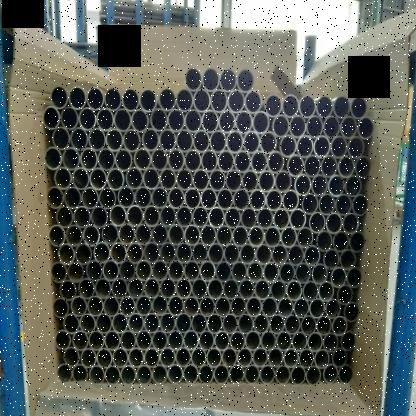pipe: (184, 66, 202, 92), (315, 95, 334, 119), (42, 106, 61, 130), (202, 67, 220, 92), (236, 68, 254, 93), (122, 87, 140, 112), (210, 88, 228, 113), (228, 89, 246, 114), (150, 107, 168, 132), (88, 127, 106, 152), (271, 114, 290, 137), (63, 186, 82, 209), (219, 68, 237, 92), (50, 85, 68, 109), (68, 86, 86, 110), (86, 86, 104, 110), (104, 88, 122, 112), (158, 88, 176, 112), (176, 88, 194, 112), (140, 88, 158, 112), (244, 90, 262, 114), (264, 93, 282, 117), (282, 94, 300, 118), (298, 94, 316, 118), (333, 95, 351, 119), (350, 95, 368, 119), (60, 106, 78, 130), (78, 106, 96, 130), (96, 107, 114, 131), (114, 108, 132, 132), (132, 108, 150, 132), (184, 109, 202, 133), (252, 110, 270, 134), (289, 114, 307, 138), (306, 114, 324, 138), (340, 115, 358, 139), (52, 126, 70, 150), (70, 127, 88, 151), (142, 128, 160, 152), (106, 128, 124, 152), (226, 130, 244, 154), (260, 131, 278, 155), (97, 147, 115, 171), (250, 150, 268, 174), (320, 154, 338, 178), (338, 155, 356, 179), (54, 166, 72, 190), (344, 174, 362, 198), (286, 154, 305, 176), (90, 206, 109, 228), (296, 135, 314, 158), (44, 147, 62, 170), (62, 147, 80, 170), (80, 147, 98, 170), (134, 147, 152, 170), (115, 148, 133, 171), (184, 149, 202, 172), (267, 151, 285, 174), (72, 167, 90, 190), (126, 167, 144, 190), (192, 168, 210, 191), (46, 186, 64, 209), (82, 186, 100, 209), (318, 193, 336, 216), (73, 205, 91, 228), (272, 207, 290, 230), (100, 223, 118, 246), (83, 224, 101, 247), (65, 224, 83, 247), (280, 226, 298, 249), (218, 110, 235, 134), (323, 114, 340, 138), (124, 128, 141, 152), (159, 128, 176, 152), (176, 129, 193, 153), (193, 130, 210, 154), (210, 130, 227, 154), (243, 130, 260, 154), (331, 136, 348, 160), (348, 136, 365, 160), (209, 168, 226, 192), (225, 168, 242, 192), (127, 204, 144, 228), (279, 135, 297, 157), (354, 156, 372, 178), (274, 170, 292, 192), (294, 174, 312, 196), (117, 186, 135, 208), (282, 190, 300, 212), (301, 192, 319, 214), (109, 204, 127, 226), (308, 212, 326, 234), (296, 227, 314, 249), (75, 243, 93, 265), (67, 261, 85, 283), (278, 262, 296, 284), (94, 278, 112, 300), (324, 298, 342, 320), (62, 312, 80, 334), (357, 116, 374, 139), (151, 147, 168, 170), (143, 167, 160, 190), (90, 167, 107, 190), (107, 167, 124, 190), (159, 167, 176, 190), (176, 168, 193, 191), (311, 174, 328, 197), (328, 174, 345, 197), (135, 186, 152, 209), (151, 186, 168, 209), (99, 186, 116, 209), (184, 187, 201, 210), (216, 188, 233, 211), (56, 205, 73, 228), (119, 223, 136, 246), (184, 224, 201, 247), (49, 224, 66, 247), (58, 243, 75, 266), (194, 88, 210, 112), (168, 108, 184, 132), (202, 109, 218, 133), (236, 110, 252, 134), (314, 135, 330, 159), (168, 148, 184, 172), (235, 150, 251, 174), (322, 249, 340, 270), (85, 260, 103, 281), (336, 284, 354, 305), (70, 296, 88, 317), (52, 297, 70, 318), (342, 301, 360, 322), (201, 150, 218, 172), (242, 170, 259, 192), (258, 170, 275, 192), (335, 194, 352, 216), (176, 206, 193, 228), (192, 206, 209, 228), (325, 212, 342, 234), (151, 224, 168, 246), (333, 230, 350, 252), (93, 242, 110, 264), (159, 242, 176, 264), (110, 242, 127, 264), (127, 242, 144, 264), (223, 243, 240, 265), (102, 260, 119, 282), (247, 261, 264, 283), (111, 278, 128, 300), (78, 278, 95, 300), (191, 278, 208, 300), (218, 150, 234, 173), (304, 154, 320, 177), (168, 186, 184, 209), (322, 332, 340, 352), (264, 226, 281, 247), (288, 245, 305, 266), (304, 245, 321, 266), (119, 260, 136, 281), (330, 266, 347, 287), (230, 296, 247, 317), (206, 313, 223, 334), (72, 330, 89, 351), (221, 347, 238, 368), (201, 188, 217, 210), (234, 188, 250, 210), (250, 189, 266, 211), (266, 190, 282, 212), (352, 194, 368, 216), (144, 205, 160, 227), (208, 206, 224, 228), (224, 207, 240, 229), (241, 207, 257, 229), (257, 207, 273, 229), (290, 208, 306, 230), (342, 212, 358, 234), (136, 224, 152, 246), (168, 224, 184, 246), (248, 226, 264, 248), (350, 231, 366, 253), (144, 242, 160, 264), (176, 242, 192, 264), (192, 242, 208, 264), (208, 242, 224, 264), (240, 243, 256, 265), (272, 244, 288, 266), (136, 259, 152, 281), (152, 260, 168, 282), (168, 260, 184, 282), (184, 260, 200, 282), (200, 260, 216, 282), (216, 260, 232, 282), (232, 260, 248, 282), (51, 261, 67, 283), (263, 261, 279, 283), (296, 262, 312, 284), (346, 266, 362, 288), (144, 278, 160, 300), (160, 278, 176, 300), (128, 278, 144, 300), (176, 278, 192, 300), (208, 278, 224, 300), (238, 278, 254, 300), (60, 279, 76, 301), (160, 312, 176, 334), (112, 312, 128, 334), (128, 312, 144, 334), (144, 312, 160, 334), (176, 312, 192, 334), (96, 312, 112, 334), (300, 314, 316, 336), (316, 314, 332, 336), (152, 330, 168, 352), (198, 330, 214, 352), (214, 330, 230, 352), (260, 330, 276, 352), (230, 330, 246, 352), (245, 330, 261, 352), (232, 226, 249, 246), (311, 264, 328, 284), (254, 280, 271, 300), (87, 296, 104, 316), (103, 296, 120, 316), (119, 296, 136, 316), (316, 231, 332, 252), (256, 244, 272, 265), (340, 249, 356, 270), (223, 279, 239, 300), (286, 280, 302, 301), (302, 280, 318, 301), (136, 295, 152, 316), (152, 295, 168, 316), (168, 295, 184, 316), (184, 296, 200, 317), (199, 296, 215, 317), (215, 296, 231, 317), (246, 296, 262, 317), (262, 297, 278, 318), (277, 297, 293, 318), (80, 313, 96, 334), (191, 313, 207, 334), (222, 313, 238, 334), (238, 313, 254, 334), (284, 314, 300, 335), (167, 330, 183, 351), (183, 330, 199, 351), (104, 330, 120, 351), (120, 330, 136, 351), (136, 330, 152, 351), (276, 331, 292, 352), (308, 332, 324, 353), (63, 346, 79, 367), (176, 347, 192, 368), (237, 347, 253, 368), (160, 347, 176, 368), (144, 347, 160, 368), (206, 347, 222, 368), (252, 347, 268, 368), (268, 347, 284, 368), (298, 348, 314, 369), (167, 363, 183, 384), (229, 363, 245, 384), (136, 364, 152, 385), (89, 330, 104, 352), (160, 206, 176, 226), (200, 226, 216, 246), (216, 226, 232, 246), (270, 280, 286, 300), (318, 282, 334, 302), (294, 298, 310, 318), (309, 298, 325, 318), (253, 314, 269, 334), (269, 314, 285, 334), (332, 316, 348, 336), (55, 330, 71, 350), (340, 332, 356, 352), (292, 332, 308, 352), (332, 348, 348, 368), (80, 348, 96, 368), (128, 348, 144, 368), (96, 348, 112, 368), (283, 348, 299, 368), (338, 364, 354, 384), (198, 364, 214, 384), (214, 364, 230, 384), (322, 364, 338, 384), (152, 364, 168, 384), (183, 364, 199, 384), (244, 364, 260, 384), (260, 364, 276, 384), (89, 364, 105, 384), (105, 364, 121, 384), (290, 364, 306, 384), (306, 365, 322, 385), (191, 347, 206, 368), (113, 347, 128, 368), (275, 364, 290, 385), (72, 364, 89, 382), (314, 350, 330, 369), (57, 363, 72, 383), (121, 364, 136, 384)
